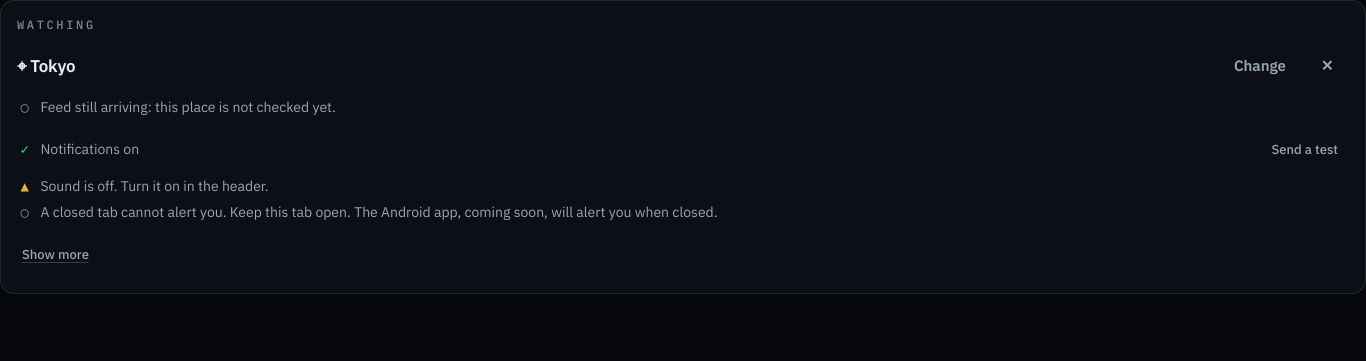
Test case: confirmation: the honest states › the rules behind "Show more" are the ones the alarm applies
This screenshot has width=1366, height=361.
Click the button "Show more": coordinates (55, 255) x1=17 y1=233 x2=94 y2=277
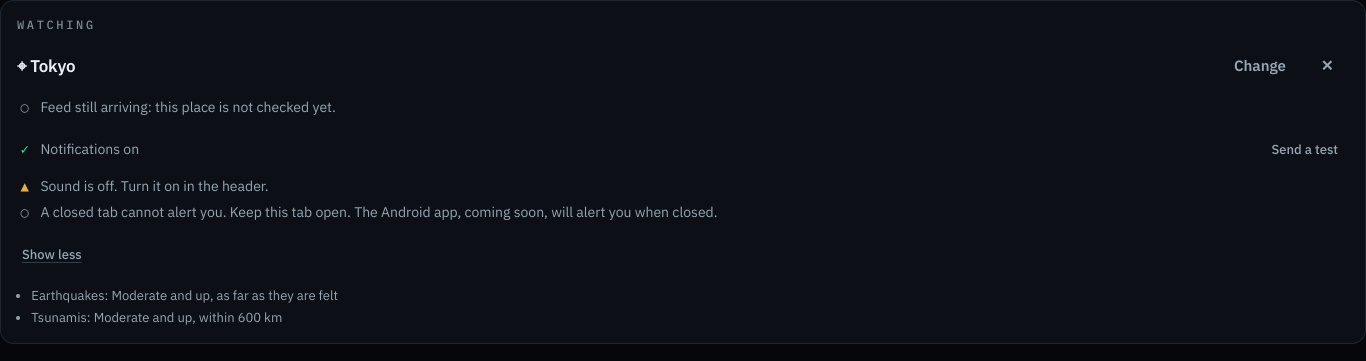
Result: the list item "Earthquakes: Moderate and up, as far as they are felt" is shown at x1=31 y1=287 x2=338 y2=304
Result: the list item "Tsunamis: Moderate and up, within 600 km" is shown at x1=31 y1=309 x2=282 y2=326
